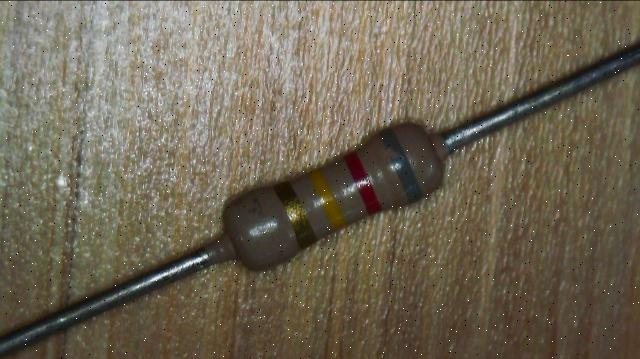gold: (274, 181, 316, 249)
grey: (380, 128, 422, 203)
red: (343, 151, 382, 216)
resistor: (175, 86, 473, 311)
yellow: (309, 168, 345, 230)
